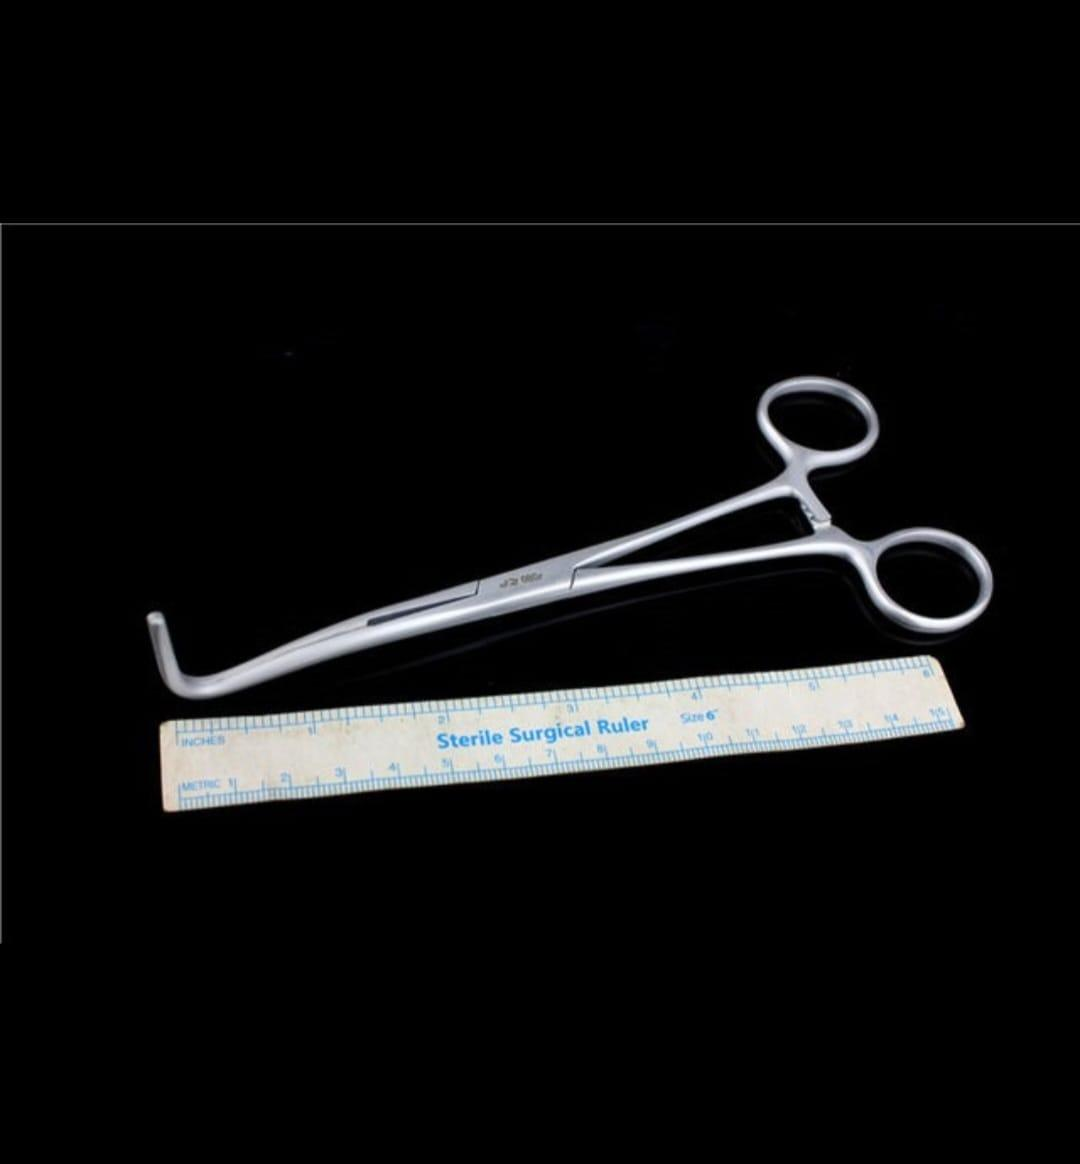Rectangle Cholecystectomy Forceps: (142, 371, 999, 706)
